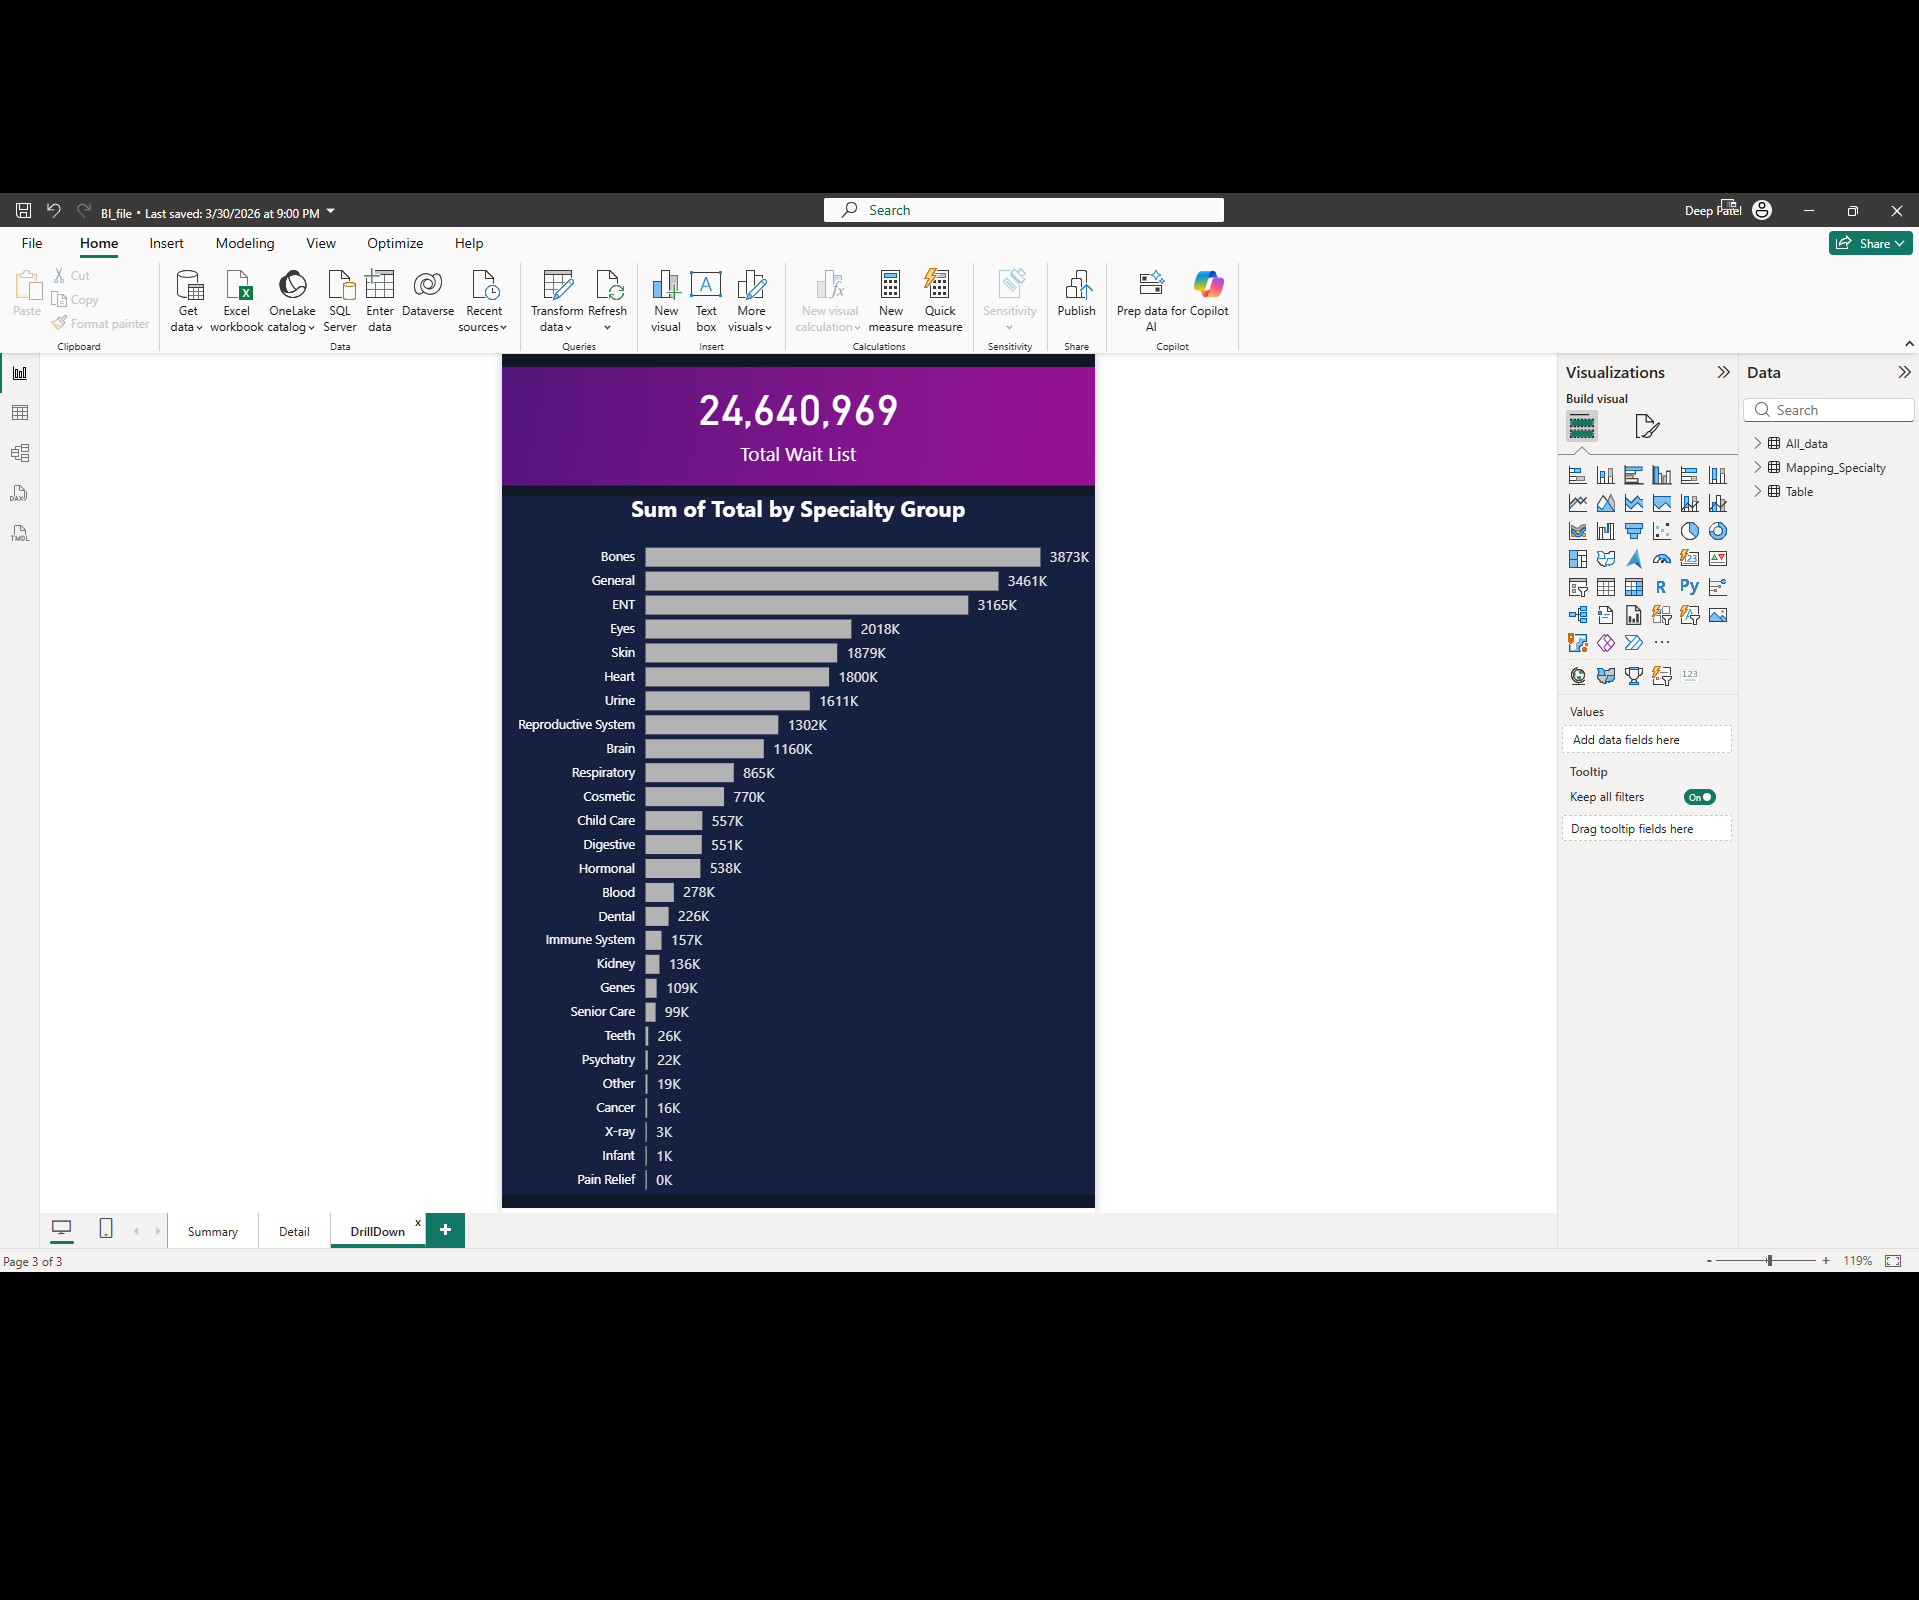

The dashboard page shown, as its layout file describes it:
{"tool":"powerbi","page":{"name":"DrillDown","canvas":[500,725],"ordinal":2},"visuals":[{"type":"barChart","fields":{"Category":["Mapping_Specialty.Specialty Group"],"Y":["Sum(All_data.Total)"]},"box":[0,118,499.9,600.2],"z":0},{"type":"advanceCardE03760C5AB684758B56AA29F9E6C257B","title":"Total Wait List","fields":{"mainMeasure":["Sum(All_data.Total)"]},"box":[0,8.4,499.9,103.7],"z":1000}]}

Visuals, with their boxes on the page's 500x725 design canvas (x1, y1, x2, y2). These are canvas units, not pixel positions in the 1919x1600 screenshot, which may show the page scaled, cropped or inside an application window:
barChart - Mapping_Specialty.Specialty Group x Sum(All_data.Total): left=0, top=118, right=500, bottom=718
"Total Wait List" advanceCardE03760C5AB684758B56AA29F9E6C257B: left=0, top=8, right=500, bottom=112
